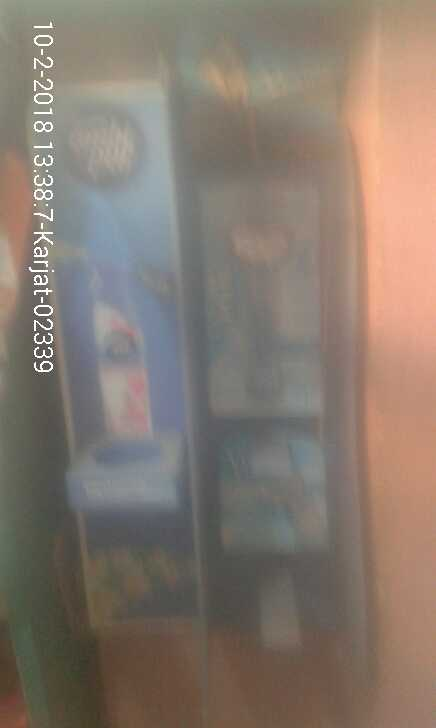venus: (201, 187, 321, 415), (211, 439, 334, 552)
